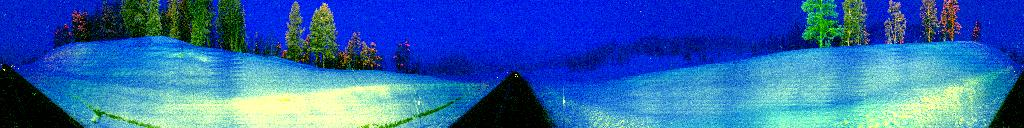pole: (414, 87, 425, 128), (560, 81, 568, 128)
